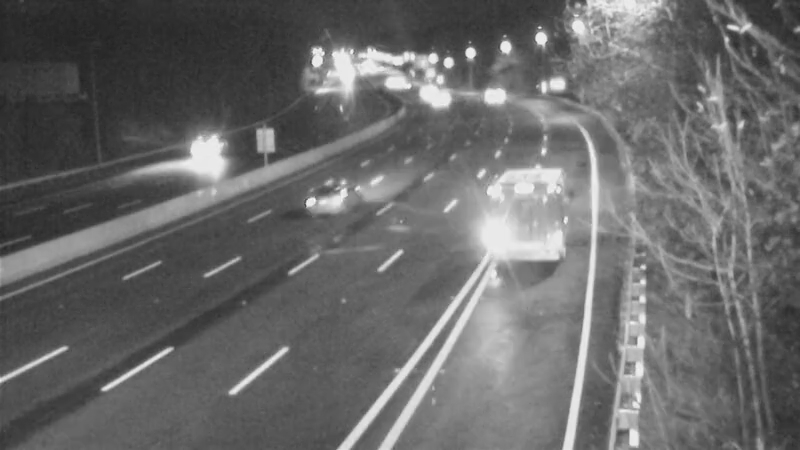vehicle: (297, 165, 377, 245), (500, 176, 580, 256), (401, 65, 451, 115), (469, 71, 519, 121), (415, 76, 465, 126), (185, 118, 235, 168)
